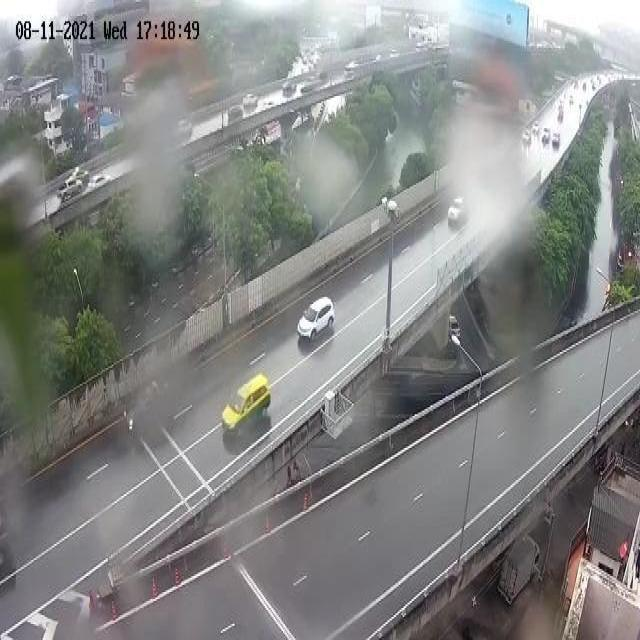Car: (222, 371, 272, 436), (296, 296, 335, 345), (447, 196, 468, 229), (88, 173, 111, 187), (72, 168, 89, 184), (178, 119, 192, 138), (228, 104, 244, 120), (242, 94, 258, 109), (522, 128, 532, 145), (541, 127, 550, 143), (282, 80, 292, 94), (552, 133, 560, 147), (532, 124, 540, 136), (390, 49, 399, 57)
Truck: (57, 178, 83, 201)
